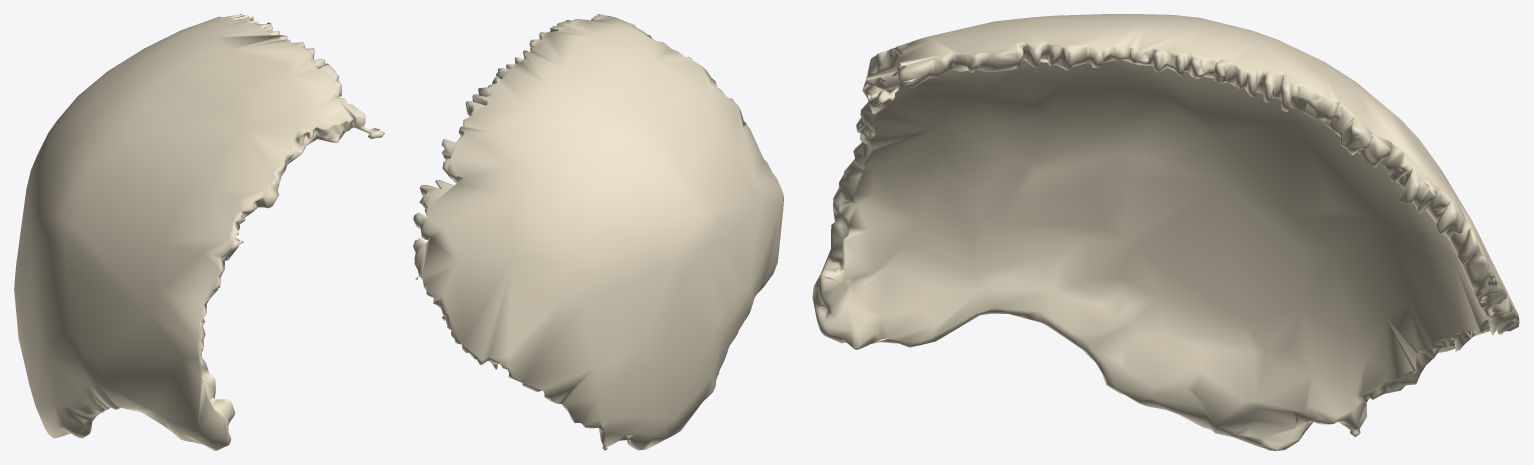
File: esqueleto-parietal-bone-r.glb
3 renders of one model, left to right at view 1: azimuth 30°, elevation 25°; view 2: azimuth 150°, elevation 25°; view 3: azimuth 270°, elevation 25°, orthographic. The views are drawn at different scales.
Parts seen in each view (by area): view 1: Parietal bone.r; view 2: Parietal bone.r; view 3: Parietal bone.r.
Part boxes in pixels (<box>): Parietal bone.r: <box>14,14,384,450</box>; Parietal bone.r: <box>413,14,783,450</box>; Parietal bone.r: <box>812,14,1519,450</box>.
Size of the model in its own units: 0.08 by 0.1156 by 0.1392.
